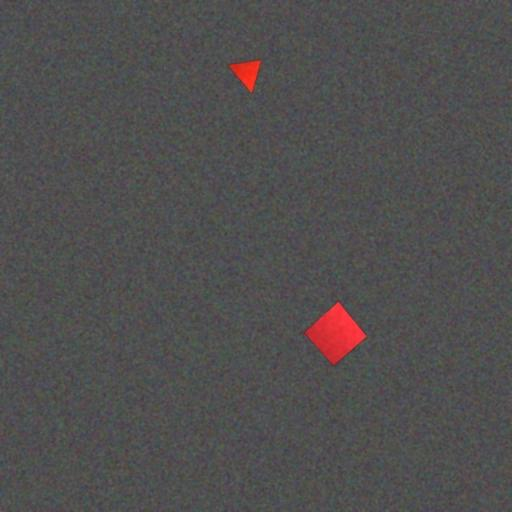RED_SQUARE: (302, 301, 368, 366)
